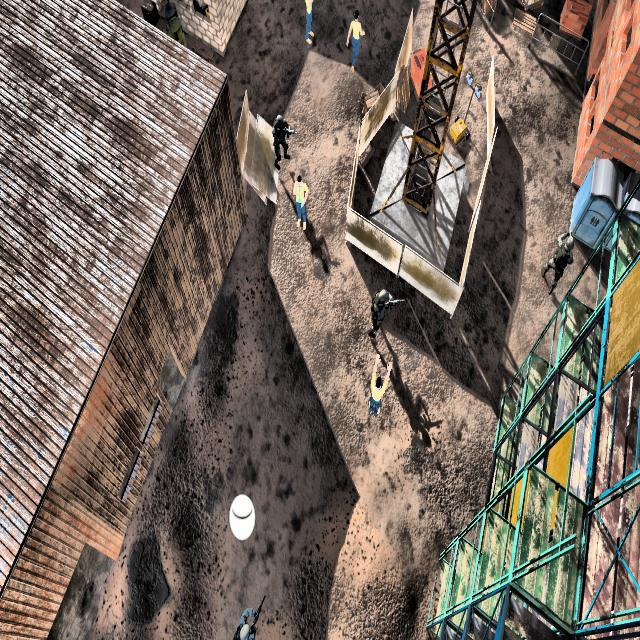bad: (358, 274, 404, 344), (534, 218, 573, 296), (271, 103, 296, 174), (231, 590, 265, 640)
good: (366, 352, 392, 430), (345, 4, 367, 74), (290, 171, 310, 235), (300, 0, 317, 48)
